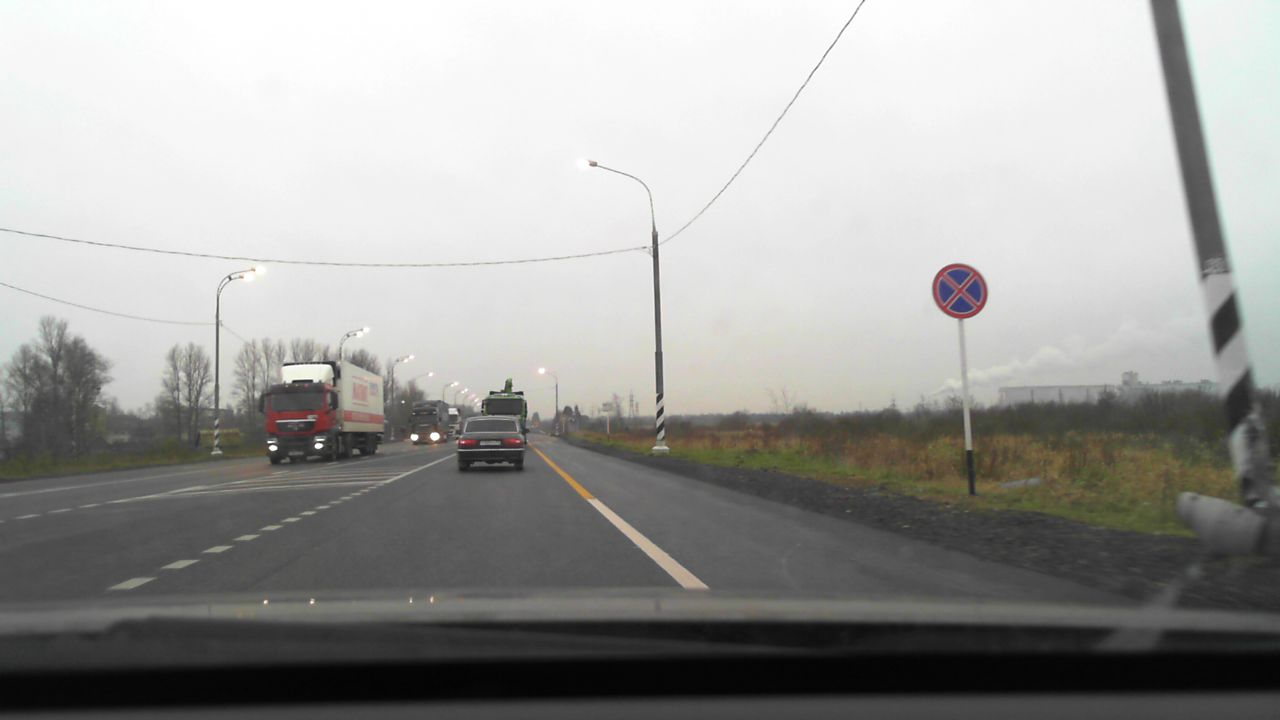No Parking: (931, 262, 988, 319)
